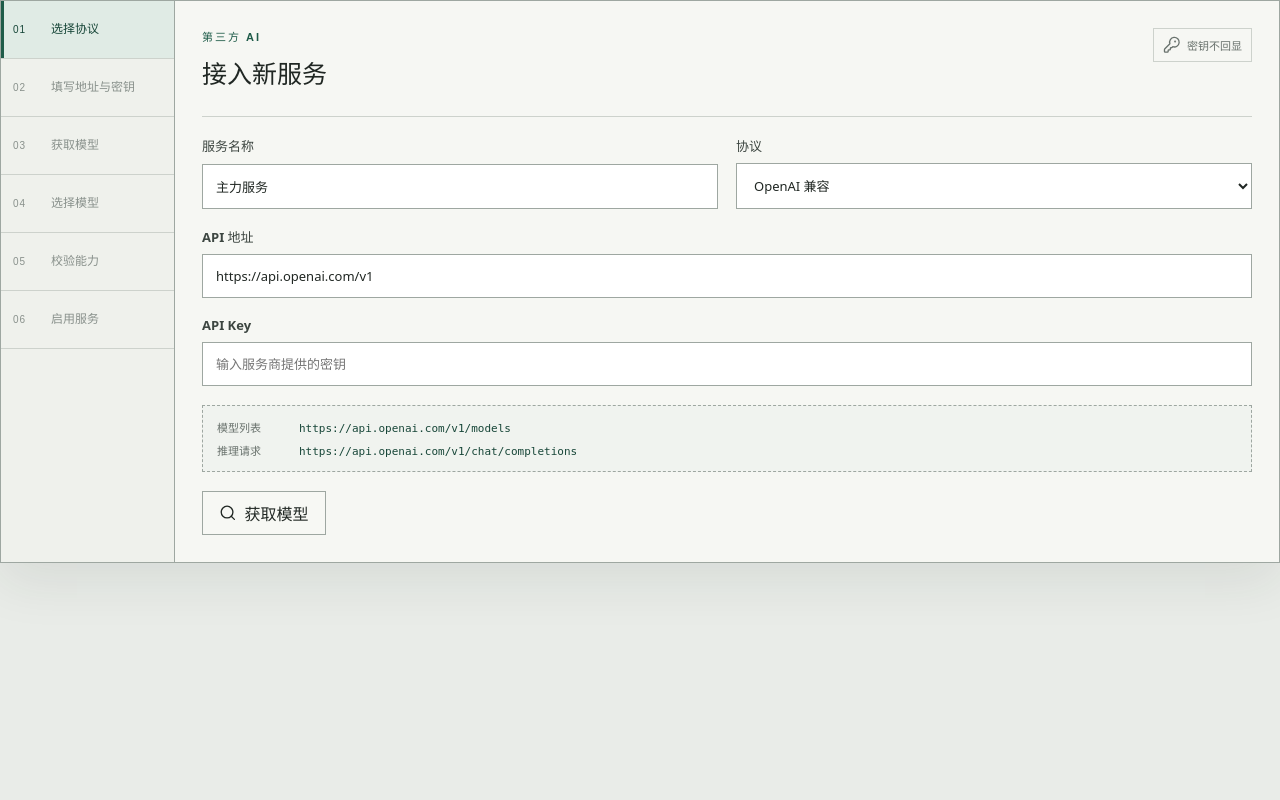
it: explains how to recover when the provider rejects the API key
Type "invalid-key" into the password field labelled "API Key".
click(727, 364); type("invalid-key")  # box x1=202 y1=342 x2=1252 y2=386
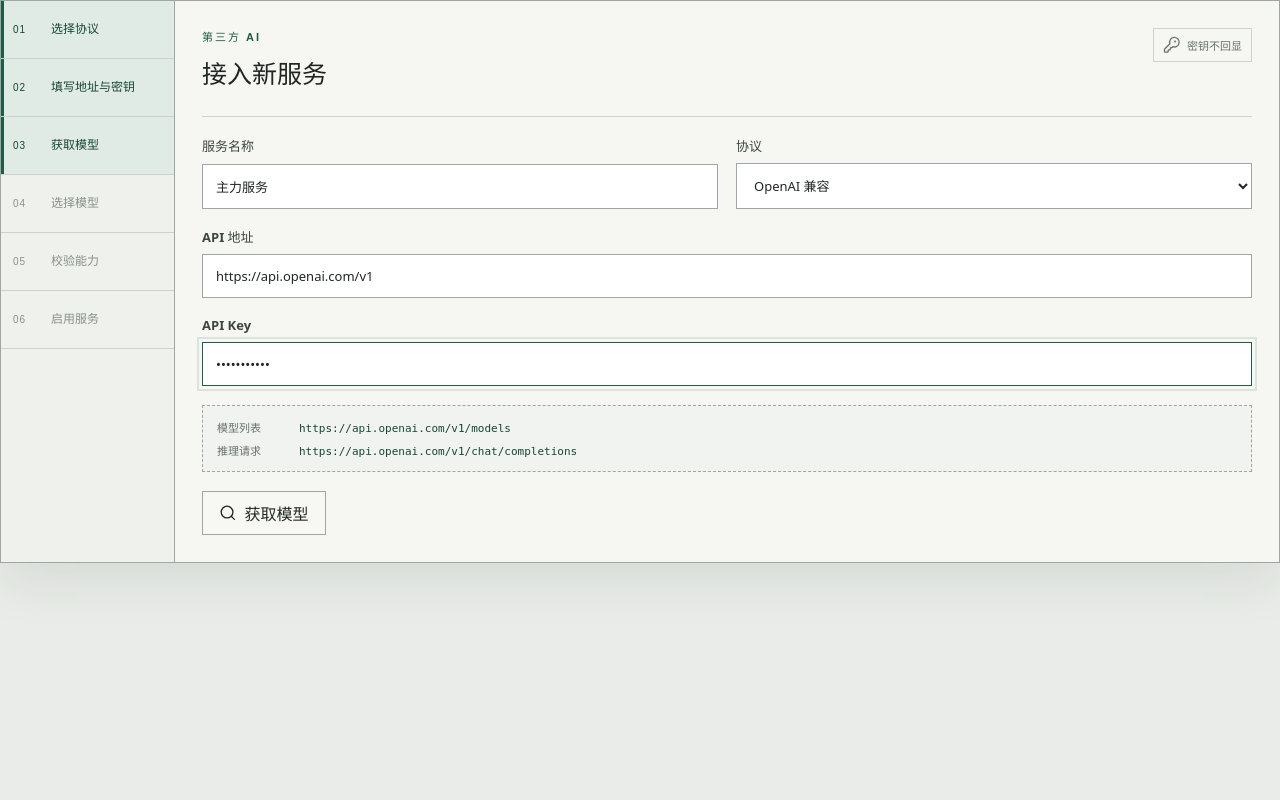
Click the button "获取模型".
click(264, 513)  # box x1=202 y1=491 x2=326 y2=535
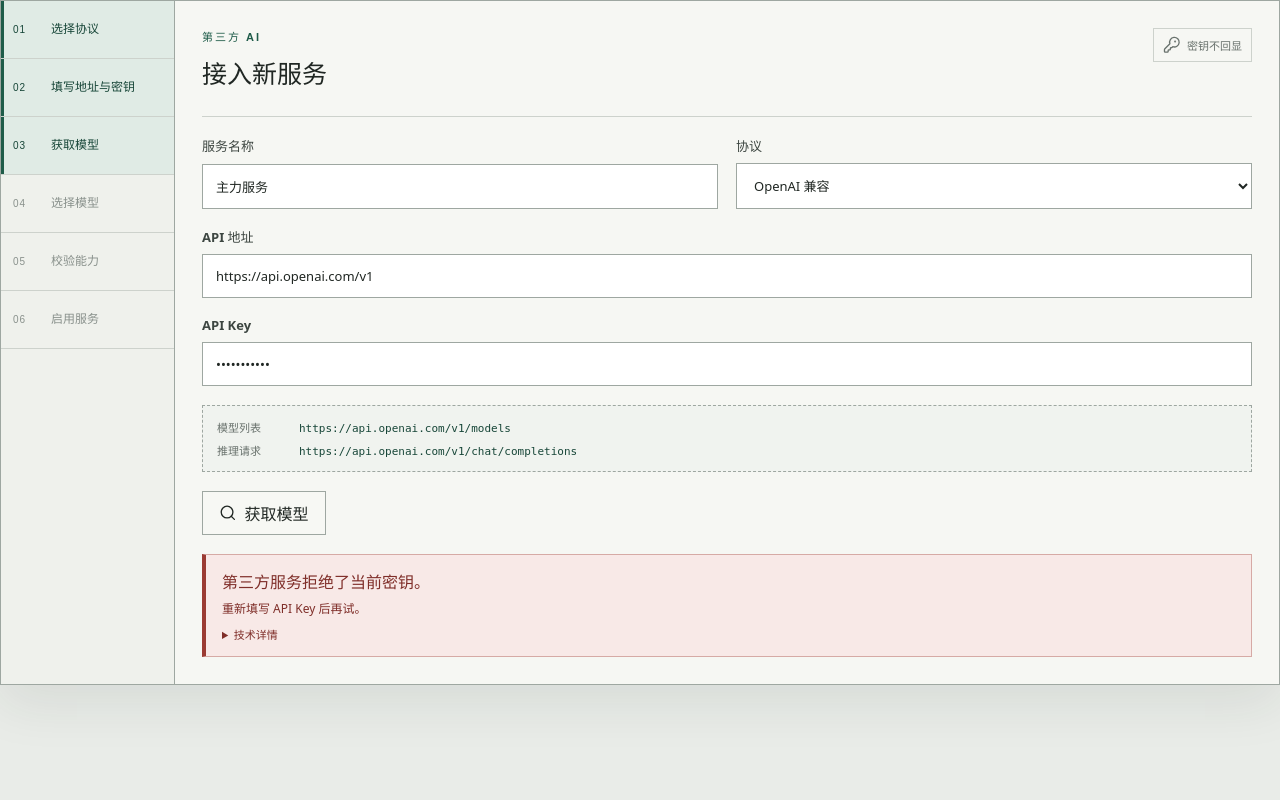
Expected: the message shows "第三方服务拒绝了当前密钥。", x1=222 y1=571 x2=430 y2=593
Expected: the message shows "重新填写 API Key 后再试。", x1=222 y1=600 x2=366 y2=617
